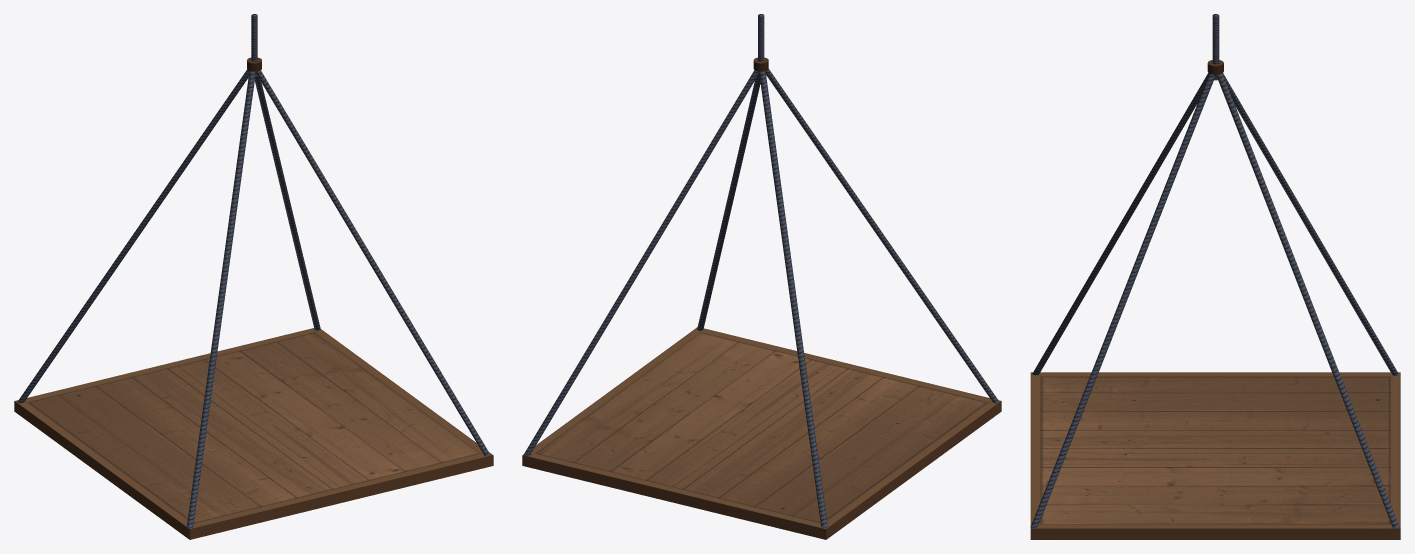
The model's file is Helicopter_Platform.fbx.
The picture shows the model from 3 angles, left to right: view 1: azimuth 30°, elevation 25°; view 2: azimuth 150°, elevation 25°; view 3: azimuth 270°, elevation 25°; orthographic projection. The views are drawn at different scales.
Visible parts, largest first — view 1: Helicopter_Platform; view 2: Helicopter_Platform; view 3: Helicopter_Platform.
Part boxes in pixels (bbox=[...]): Helicopter_Platform: bbox=[14, 14, 493, 539]; Helicopter_Platform: bbox=[522, 14, 1001, 539]; Helicopter_Platform: bbox=[1030, 14, 1400, 539].
Size of the model in its own units: 0.084 by 0.1113 by 0.0837.
Materials: 1 (1 with a texture image).
